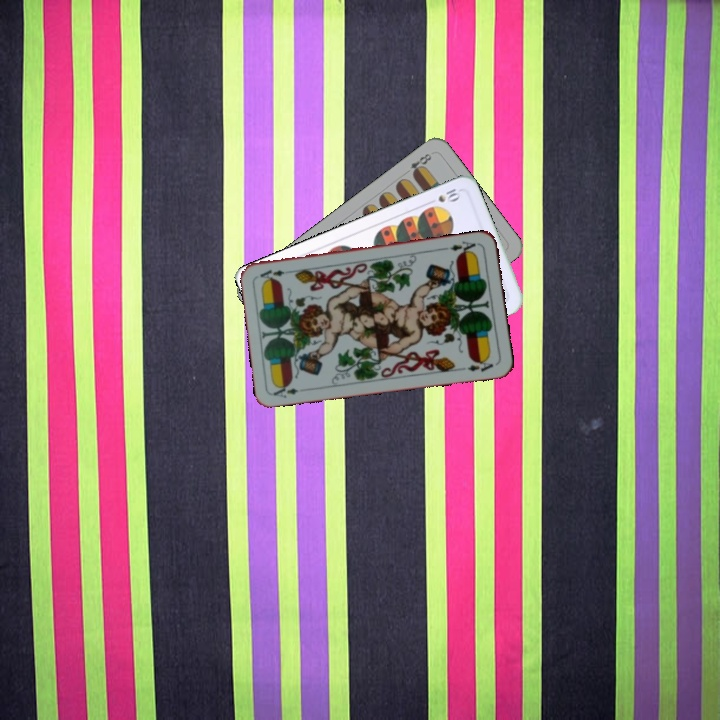E8: (406, 149, 434, 179)
EA: (441, 237, 482, 257), (269, 380, 310, 400)
S10: (424, 184, 463, 207)
